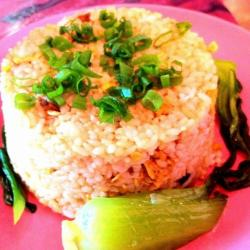rice: (6, 24, 227, 203)
